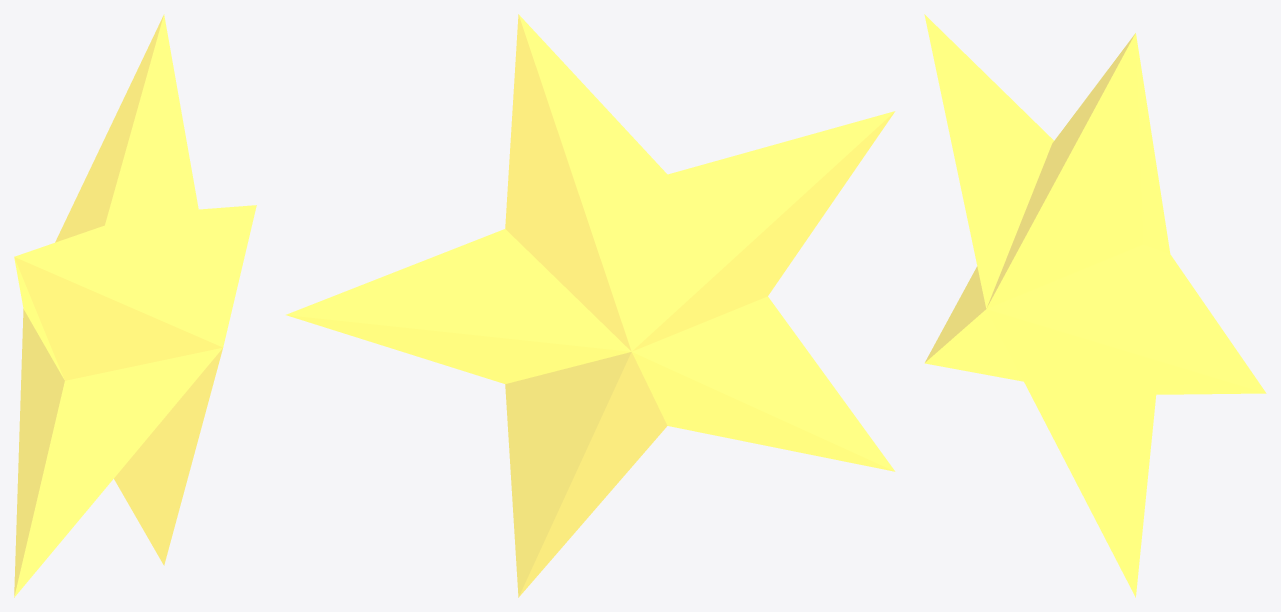
Rendered from CompleteObj.fbx.
The picture shows the model from 3 angles, left to right: view 1: azimuth 30°, elevation 25°; view 2: azimuth 150°, elevation 25°; view 3: azimuth 270°, elevation 25°; orthographic projection. The views are drawn at different scales.
Visible parts, largest first — view 1: Star; view 2: Star; view 3: Star.
Part boxes in pixels (box(x1,y1,x2,y2)): Star: box(14, 14, 256, 597); Star: box(286, 14, 895, 597); Star: box(924, 14, 1266, 597).
Bounding box in the file's own units: 325 × 419 × 230.
